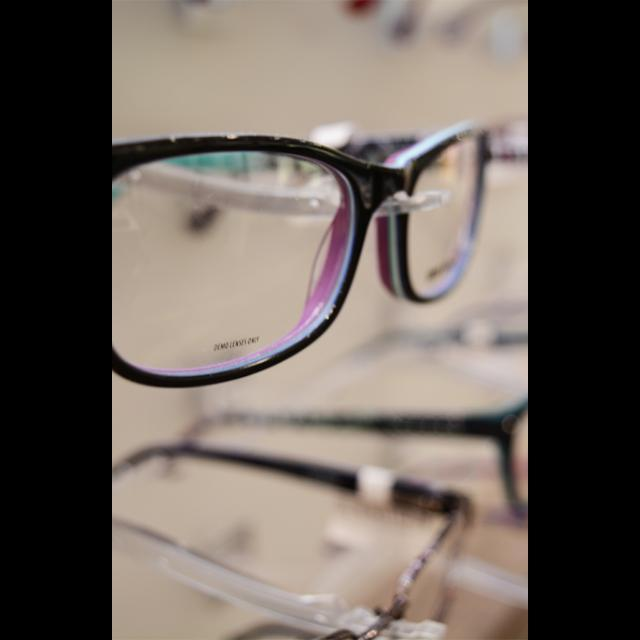glasses: (112, 116, 494, 390)
